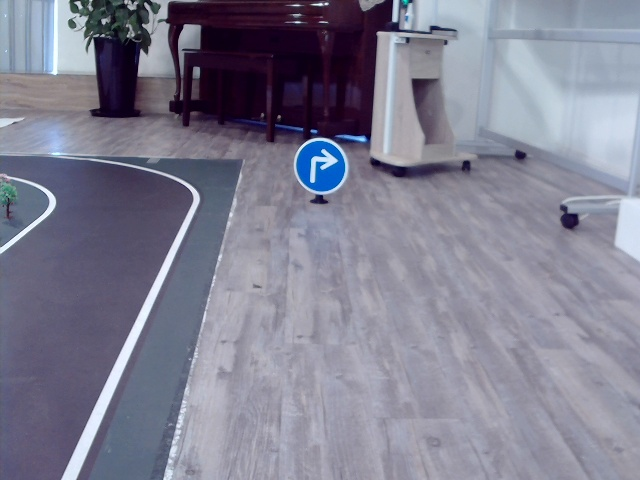turn_right: (305, 147, 336, 185)
